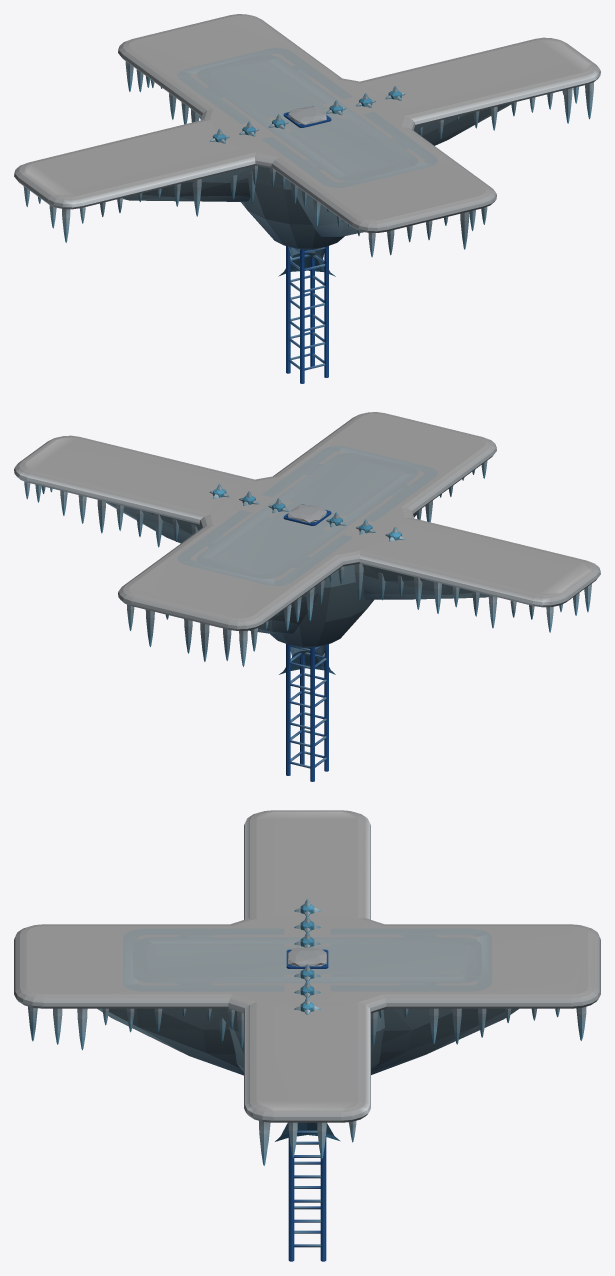
File: glacier-6-CXMZz4gk.glb
3 renders of one model, top to bottom at view 1: azimuth 30°, elevation 25°; view 2: azimuth 150°, elevation 25°; view 3: azimuth 270°, elevation 25°, orthographic. The views are drawn at different scales.
Parts seen in each view (by area): view 1: block_36x2x6#1, block_9x2x29#1, block_6x2x18_ice#1, disc_12x1.5#1, block_8x2x19_ice#1, truss_16#0, block_10x1.5x3#0, balls_13x1.4#0, support_1_square#0; view 2: block_36x2x6#1, block_9x2x29#1, block_6x2x18_ice#1, disc_12x1.5#1, block_8x2x19_ice#1, truss_16#0, block_10x1.5x3#0, balls_13x1.4#0, support_1_square#0; view 3: block_9x2x29#1, block_36x2x6#1, block_6x2x18_ice#1, block_8x2x19_ice#1, disc_12x1.5#1, truss_16#0, block_10x1.5x3#0, balls_13x1.4#0.
Boxes of the visible parts, x1,y1,x2,y2 form: block_36x2x6#1: (14,37,600,242); block_9x2x29#1: (118,14,496,257); block_6x2x18_ice#1: (196,55,418,180); disc_12x1.5#1: (200,77,415,250); block_8x2x19_ice#1: (177,48,437,187); truss_16#0: (283,106,331,383); block_10x1.5x3#0: (230,95,384,140); balls_13x1.4#0: (209,86,405,143); support_1_square#0: (278,246,335,276); block_36x2x6#1: (14,435,600,632); block_9x2x29#1: (118,412,496,666); block_6x2x18_ice#1: (196,453,418,578); disc_12x1.5#1: (199,475,414,648); block_8x2x19_ice#1: (177,446,437,585); truss_16#0: (283,504,331,781); block_10x1.5x3#0: (230,493,384,538); balls_13x1.4#0: (209,484,405,541); support_1_square#0: (279,645,335,674); block_9x2x29#1: (14,924,600,1075); block_36x2x6#1: (244,810,370,1165); block_6x2x18_ice#1: (133,937,481,983); block_8x2x19_ice#1: (123,928,491,991); disc_12x1.5#1: (211,913,403,1071); truss_16#0: (286,947,328,1261); block_10x1.5x3#0: (284,921,330,999); balls_13x1.4#0: (294,899,320,1014).
Bounding box in the file's own units: 36.36 × 16.89 × 29.36.
